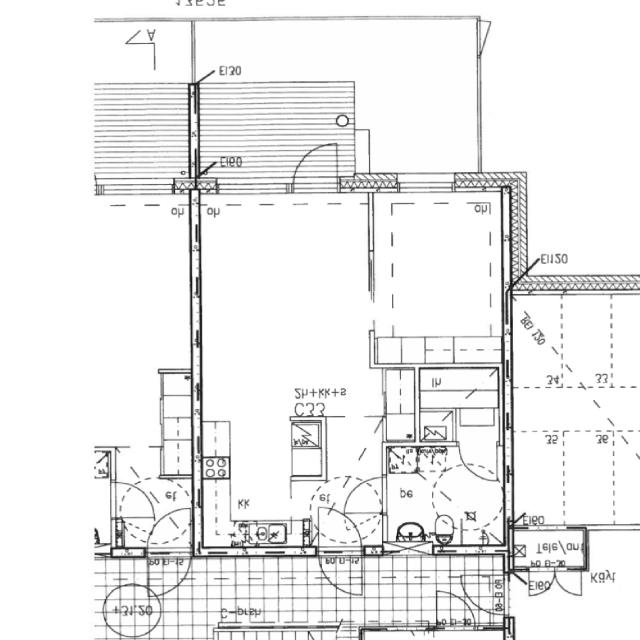door: (294, 130, 340, 192), (319, 544, 363, 594), (319, 504, 363, 554), (344, 476, 387, 512), (477, 21, 521, 56), (459, 441, 497, 481)
